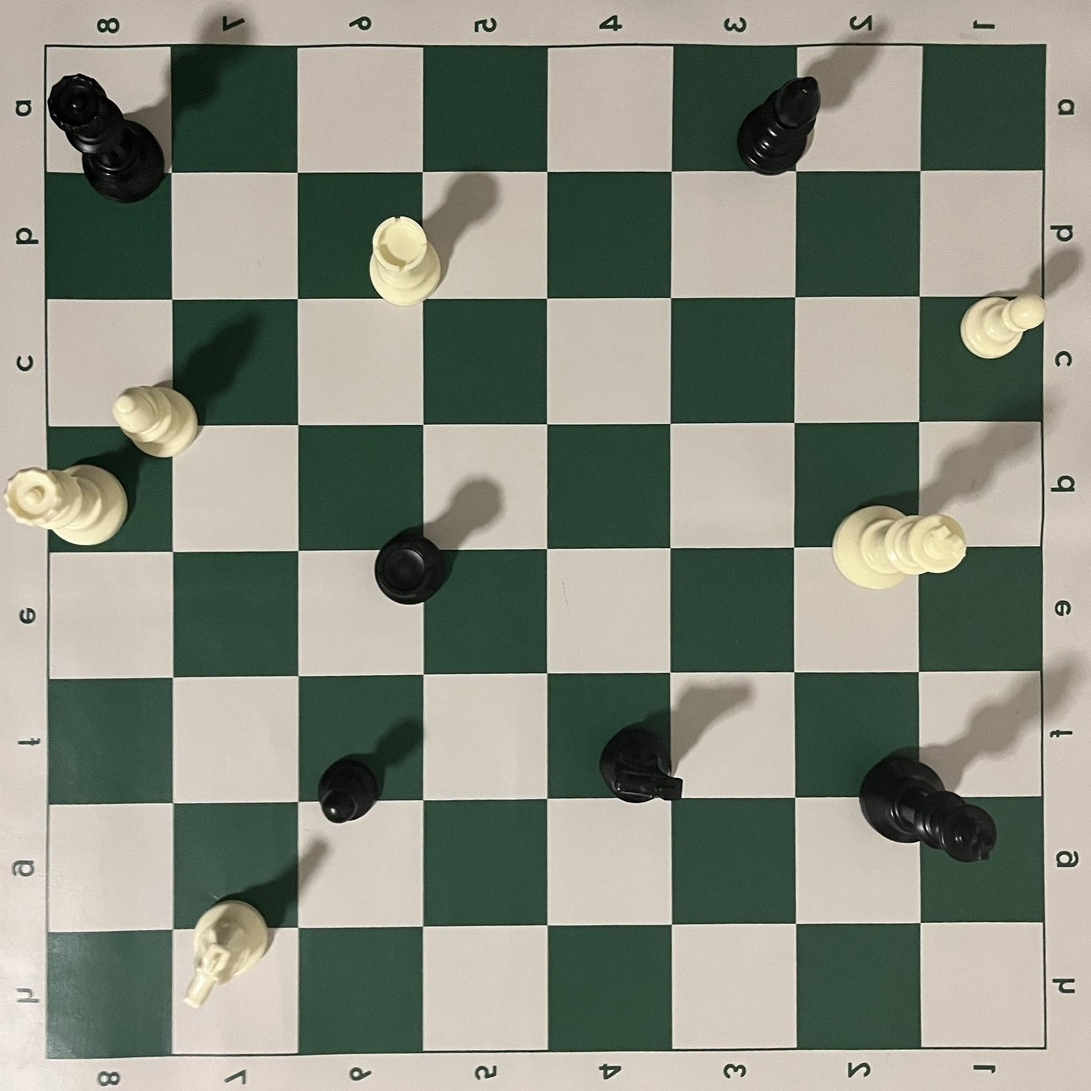black_bishop: (737, 76, 821, 176)
black_king: (858, 747, 998, 864)
black_knight: (598, 722, 683, 804)
black_pawn: (317, 755, 377, 823)
black_queen: (47, 73, 166, 204)
black_rook: (374, 530, 450, 606)
white_bishop: (111, 384, 199, 460)
white_king: (831, 504, 967, 590)
white_knight: (184, 898, 272, 1008)
white_pawn: (961, 293, 1047, 360)
white_queen: (3, 464, 129, 546)
white_rook: (369, 216, 441, 307)
